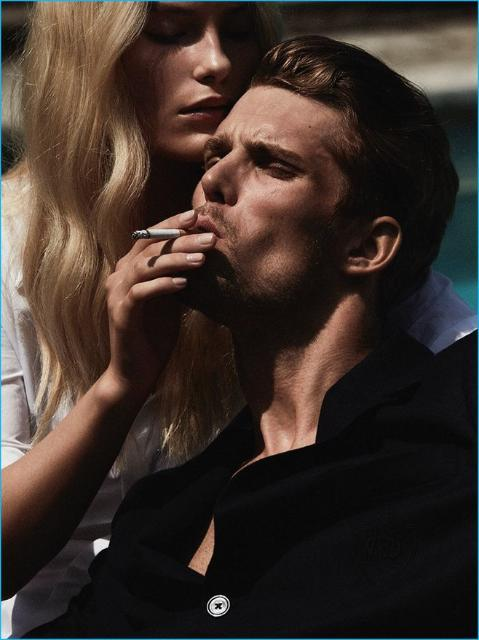SafeDriving: (0, 125, 29, 186)
Smoking: (128, 223, 188, 244)
